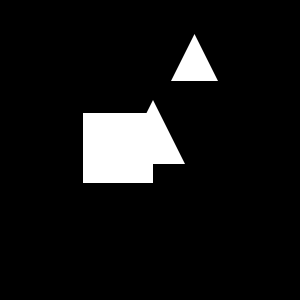circle: (83, 113, 153, 183)
triangle: (121, 100, 185, 164), (171, 34, 218, 81)
